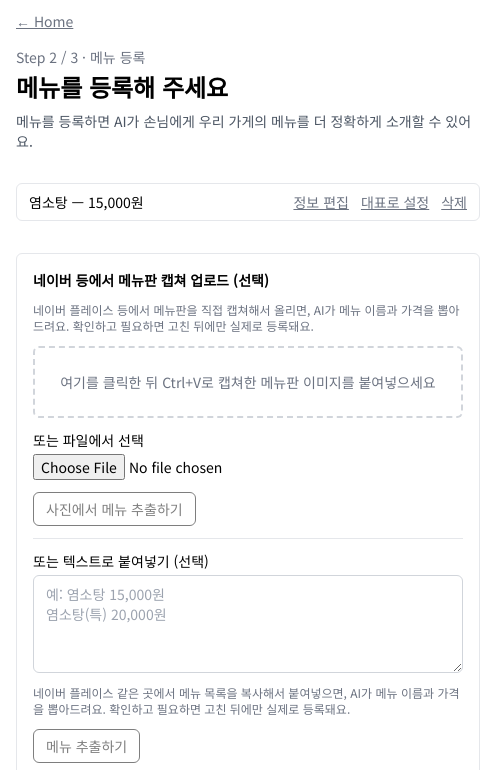
it: MenusPage (smoke) › 이미 등록된 메뉴를 대표로 설정/해제할 수 있다
Click the button "대표로 설정" at (395, 202), box [361,192,429,212]
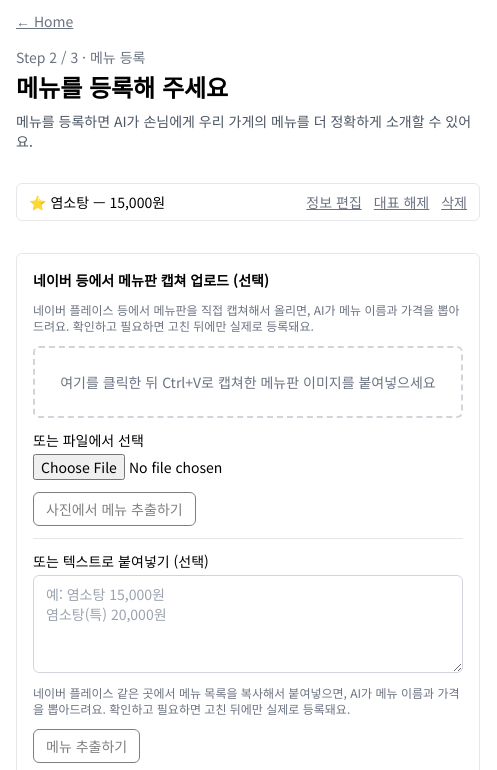
Now the text "⭐ 염소탕 — 15,000원" is shown, box [29,192,165,212]
Now the button "대표 해제" is shown, box [374,192,429,212]
